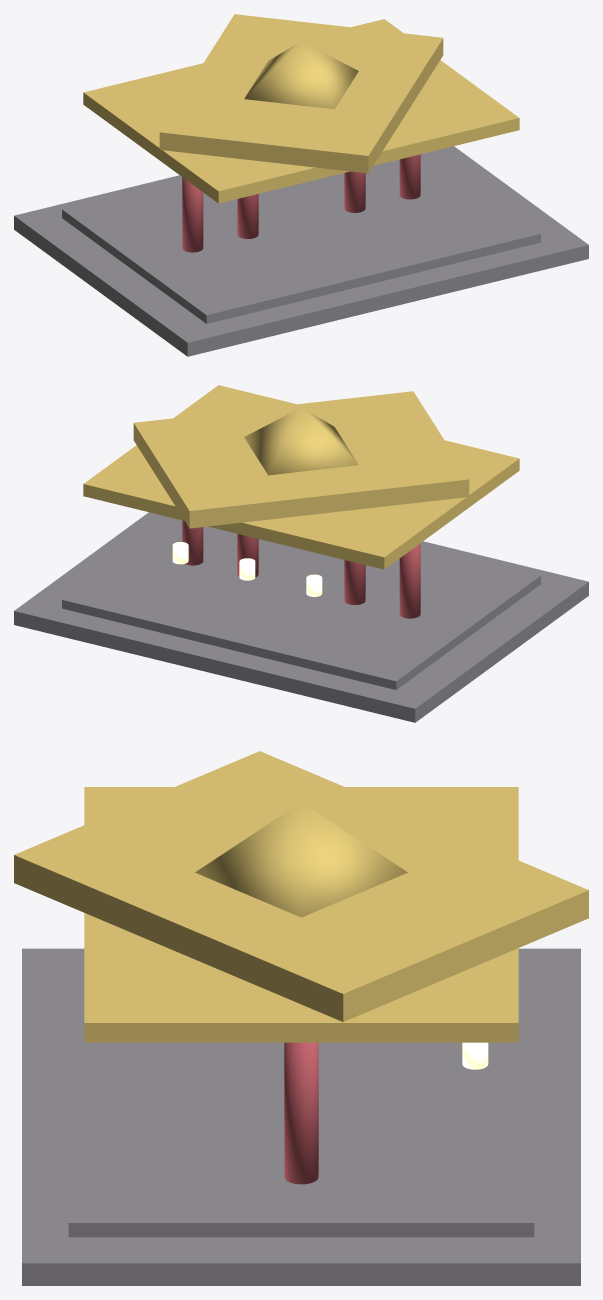
File: m3d_palace.glb
3 renders of one model, top to bottom at view 1: azimuth 30°, elevation 25°; view 2: azimuth 150°, elevation 25°; view 3: azimuth 270°, elevation 25°, orthographic. The views are drawn at different scales.
Parts seen in each view (by area): view 1: plinth2, roof2, plinth1, roof1, roof_top, pillar_0, pillar_3, pillar_1, pillar_2; view 2: plinth2, roof2, plinth1, roof1, roof_top, pillar_0, pillar_1, pillar_3, pillar_2; view 3: plinth2, roof2, plinth1, roof1, roof_top, pillar_3, lantern_2.
Boxes of the visible parts, left/top/right/bottom form: plinth2: left=62, top=152, right=540, bottom=323; roof2: left=159, top=14, right=443, bottom=173; plinth1: left=14, top=146, right=588, bottom=356; roof1: left=83, top=19, right=519, bottom=203; roof_top: left=244, top=41, right=358, bottom=109; pillar_0: left=182, top=177, right=203, bottom=252; pillar_3: left=399, top=154, right=420, bottom=199; pillar_1: left=237, top=194, right=258, bottom=238; pillar_2: left=344, top=171, right=365, bottom=212; plinth2: left=62, top=518, right=540, bottom=689; roof2: left=133, top=391, right=469, bottom=528; plinth1: left=14, top=512, right=588, bottom=722; roof1: left=83, top=385, right=519, bottom=569; roof_top: left=244, top=407, right=358, bottom=475; pillar_0: left=399, top=543, right=420, bottom=618; pillar_1: left=344, top=560, right=365, bottom=604; pillar_3: left=182, top=520, right=203, bottom=565; pillar_2: left=237, top=534, right=258, bottom=577; plinth2: left=68, top=960, right=534, bottom=1237; roof2: left=14, top=751, right=588, bottom=1021; plinth1: left=22, top=948, right=580, bottom=1285; roof1: left=84, top=787, right=518, bottom=1042; roof_top: left=195, top=802, right=407, bottom=917; pillar_3: left=284, top=1042, right=318, bottom=1184; lantern_2: left=462, top=1042, right=488, bottom=1069.
Size of what is drawn, in the model's own units: 24 by 12 by 18.53.
